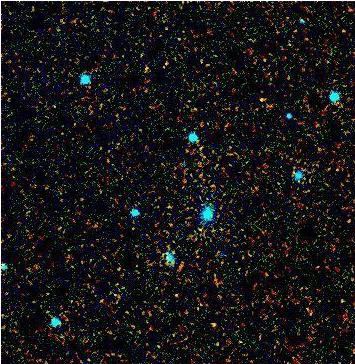star: (249, 84, 279, 114)
